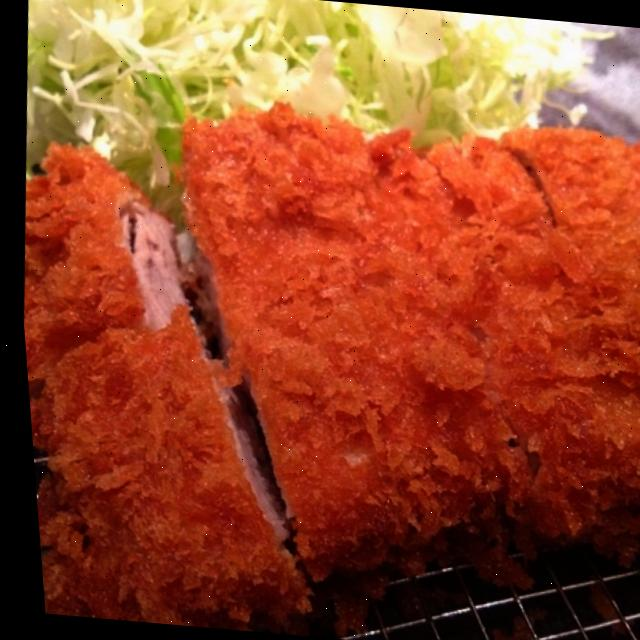牛肉菜式: (3, 53, 640, 640)
